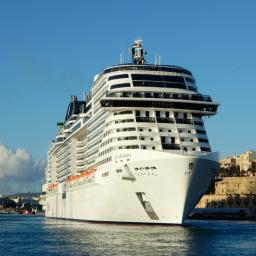cruises: (39, 39, 223, 230)
